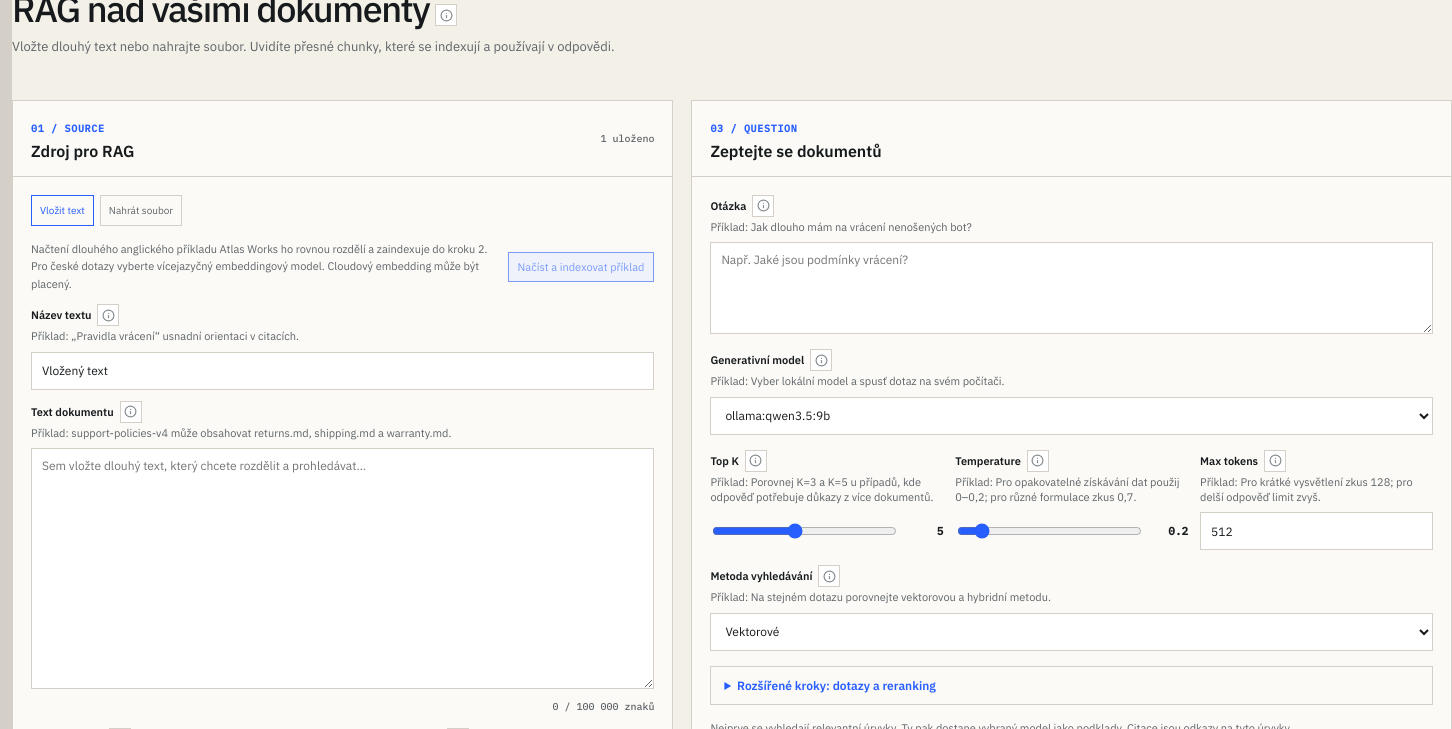
RagPage › answers using a selected document and shows the exact cited excerpt
The width and height of the screenshot is (1452, 729).
Type "Jaká je lhůta?" into the text box with placeholder "Např. Jaké jsou podmínky vrácení?" at {"x": 1072, "y": 288}, box top-left (710, 242), bottom-right (1433, 334)
(page scrolled)
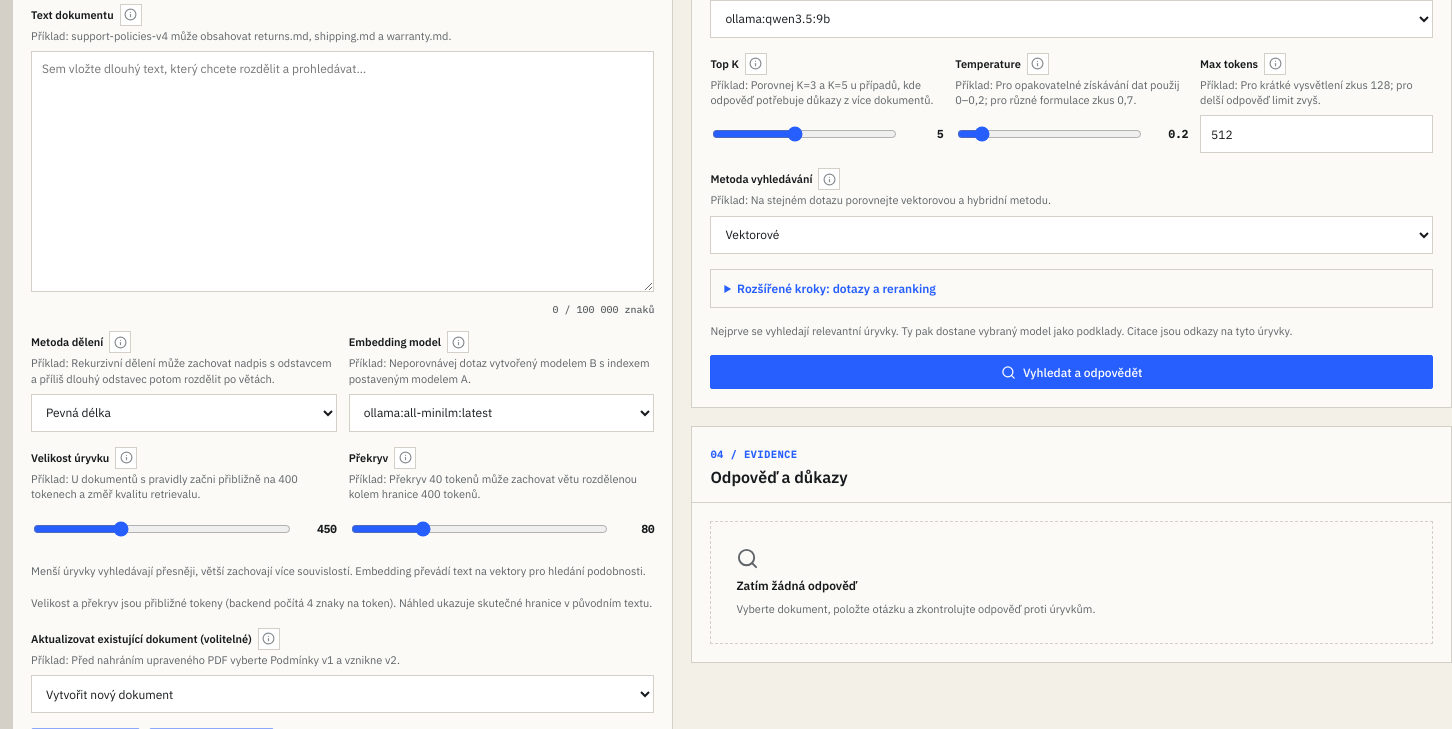
Click the button "Vyhledat a odpovědět" at {"x": 1072, "y": 372}, box top-left (710, 355), bottom-right (1433, 389)
(page scrolled)
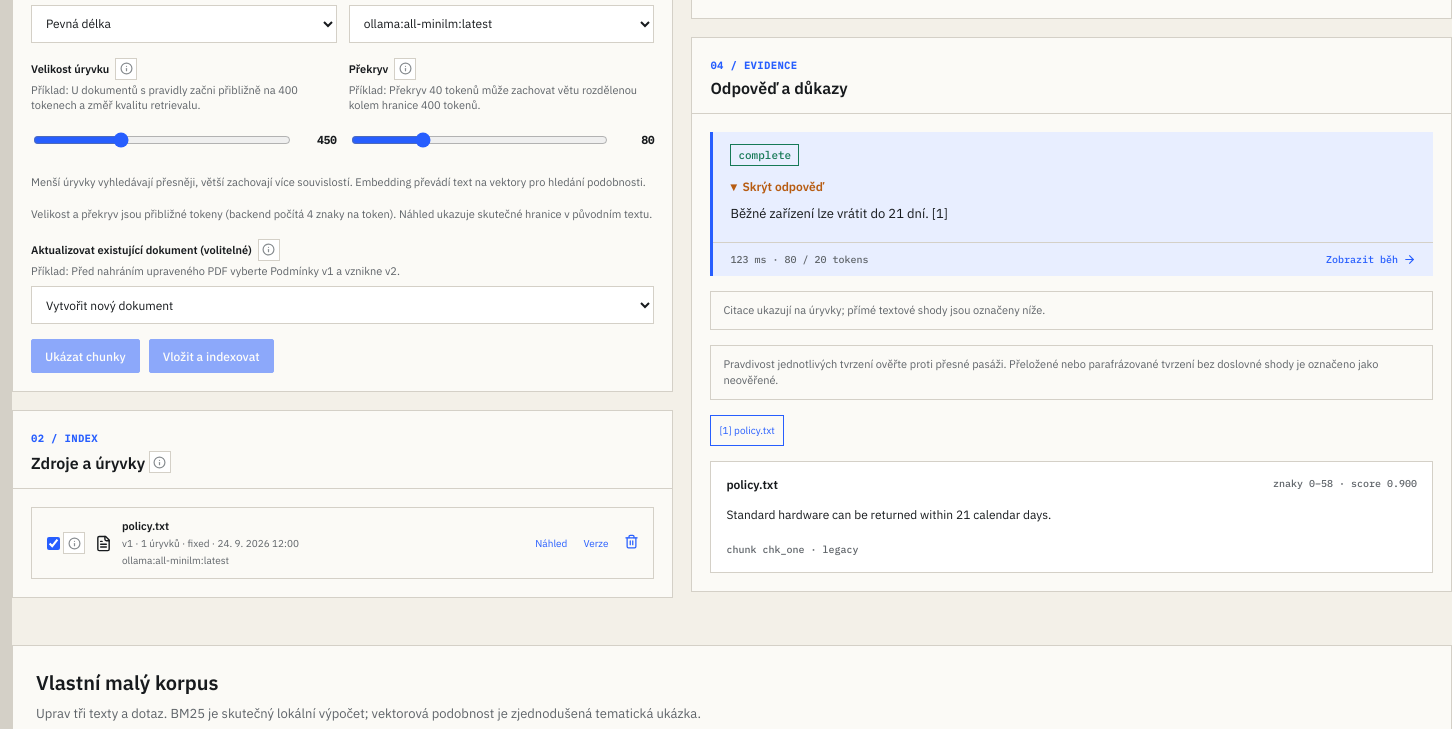
Expected: the text "Běžné zařízení lze vrátit do 21 dní. [1]" is shown, top-left (730, 205), bottom-right (948, 222)
Expected: the text "Standard hardware can be returned within 21 calendar days." is shown, top-left (726, 507), bottom-right (1051, 522)
Expected: the text "Pravdivost jednotlivých tvrzení ověřte" is shown, top-left (723, 357), bottom-right (1378, 387)
